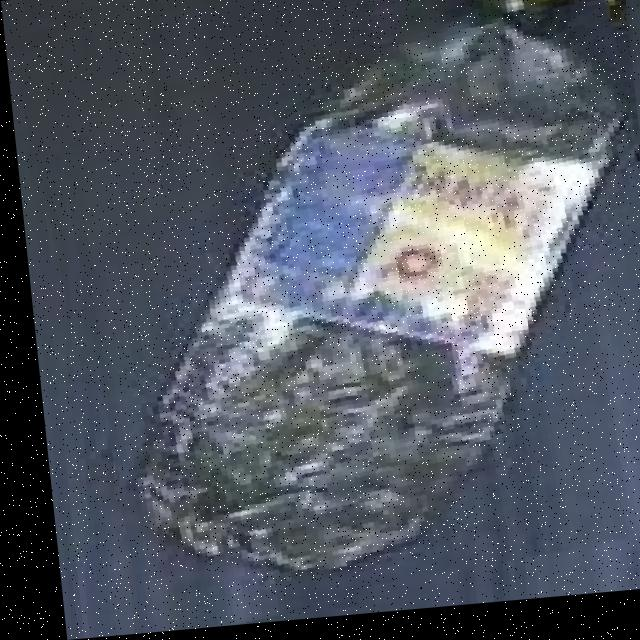litter: (20, 0, 640, 633)
